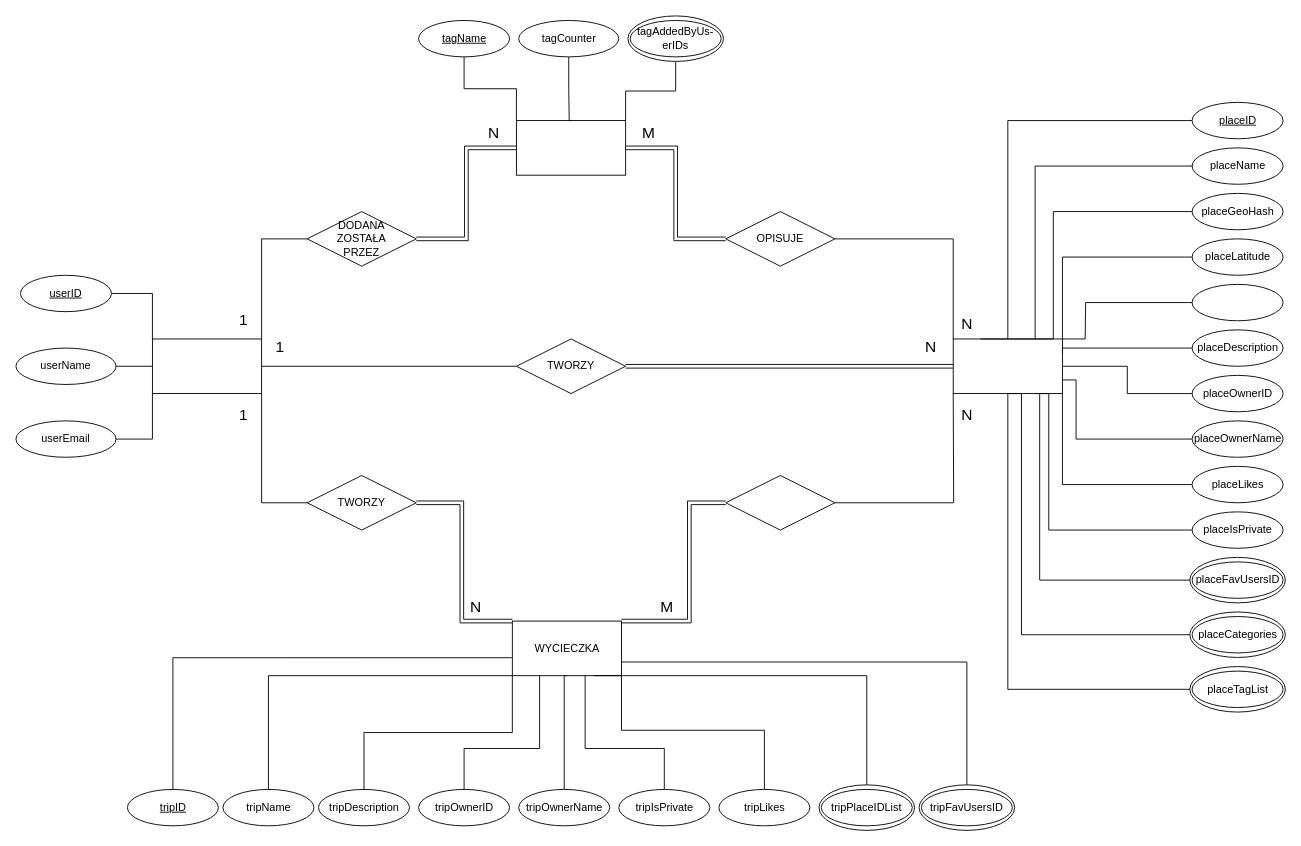
Some shapes in this 1301 by 846 pixel diagram are drawn without their labels. Here are the shapes that lost their labels. From the top down, the centre of each, then its label:
the point at 571,147: ETYKIETA
the point at 1237,302: placeLongitude
the point at 207,366: UŻYTKOWNIK
the point at 1007,366: MIEJSCE
the point at 780,502: ZAWIERA
